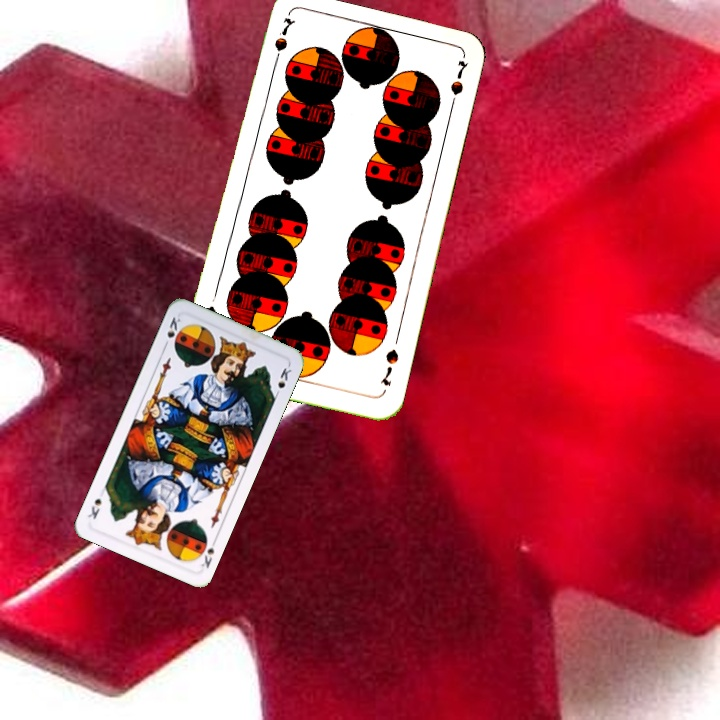S7: (268, 13, 294, 72), (376, 345, 401, 389)
SK: (160, 313, 185, 351), (197, 534, 220, 571)
